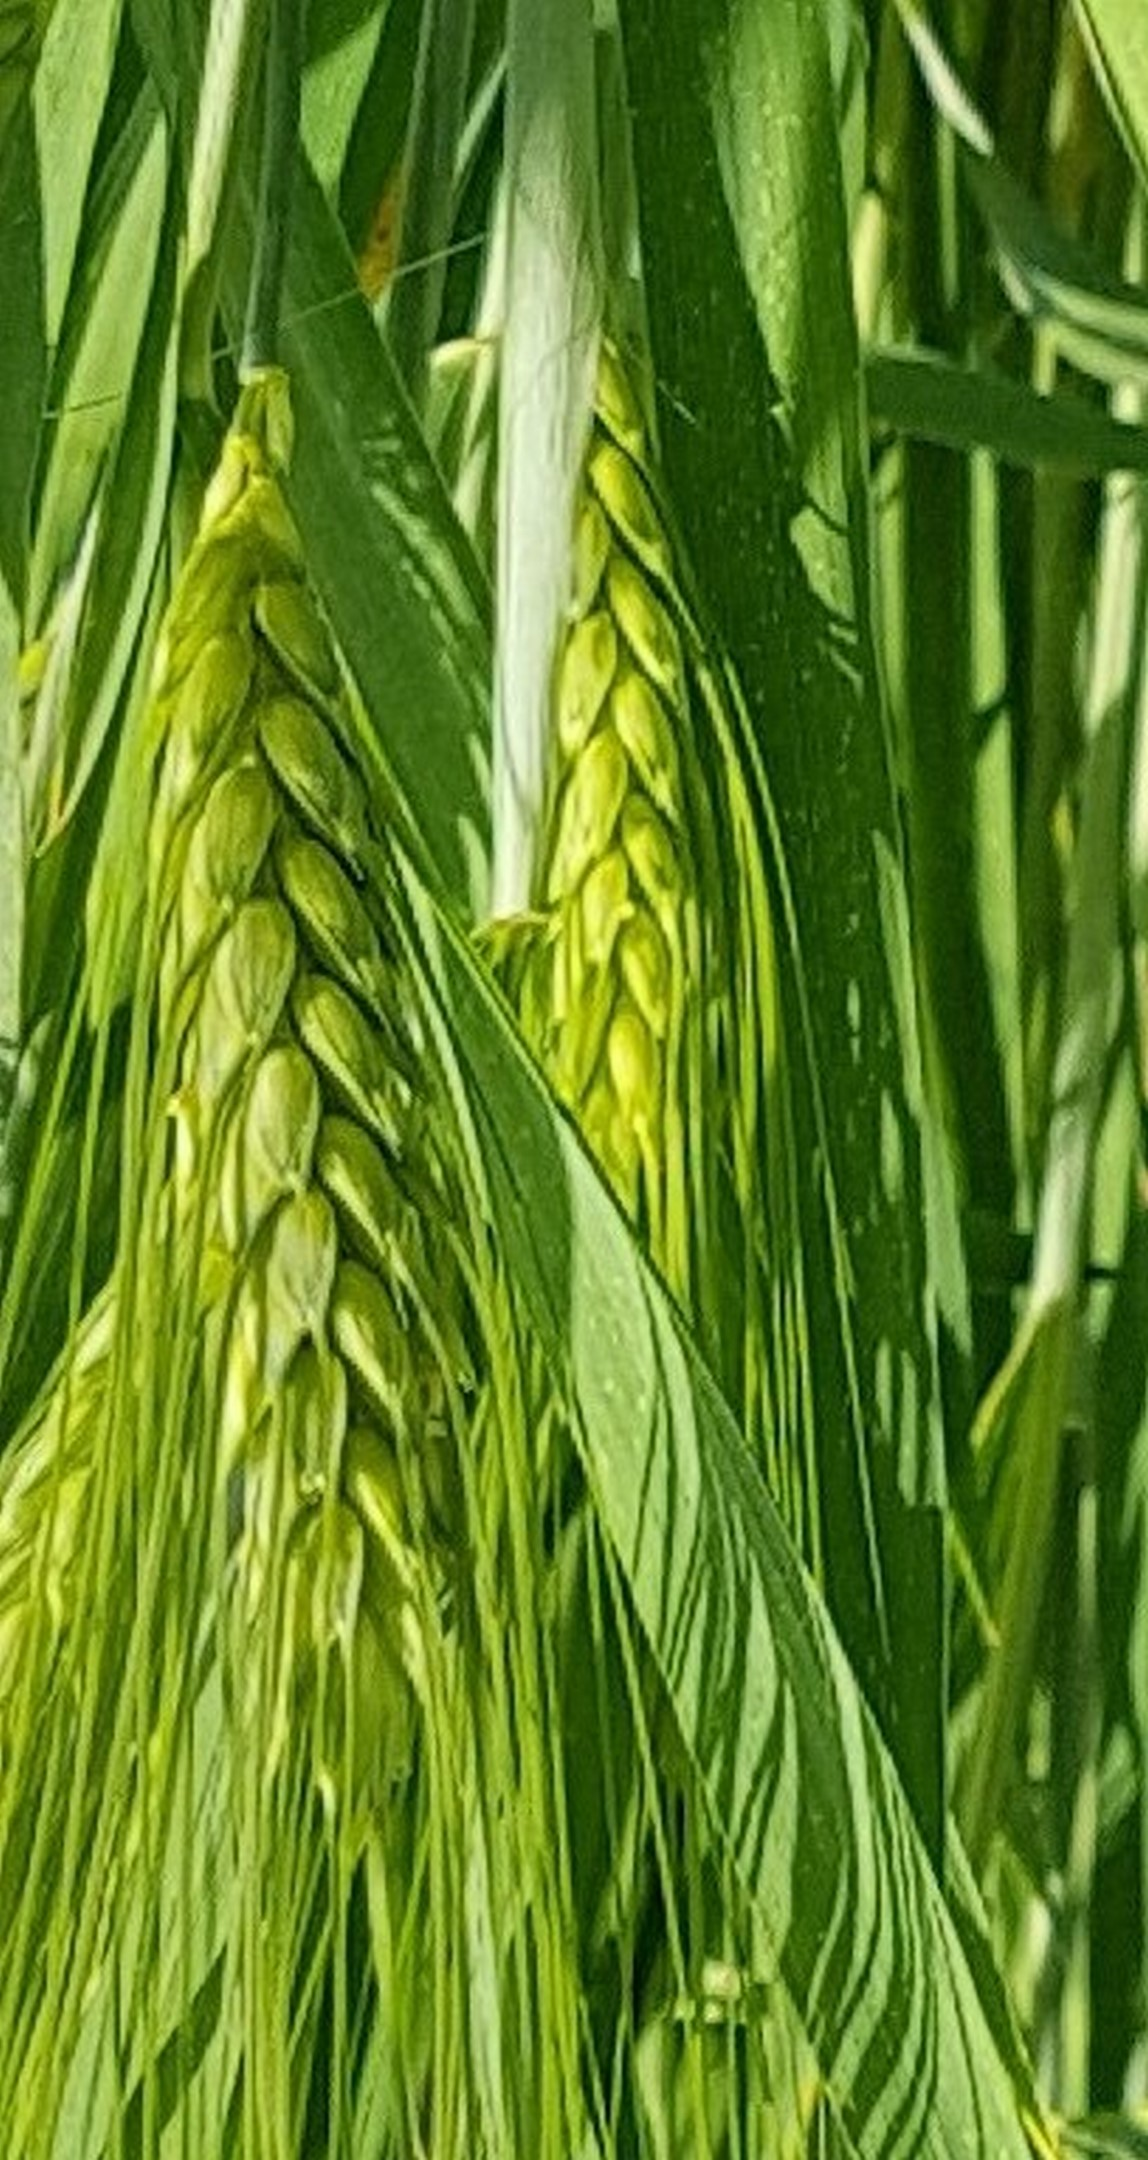Healthy Wheat: (117, 473, 494, 1603)
